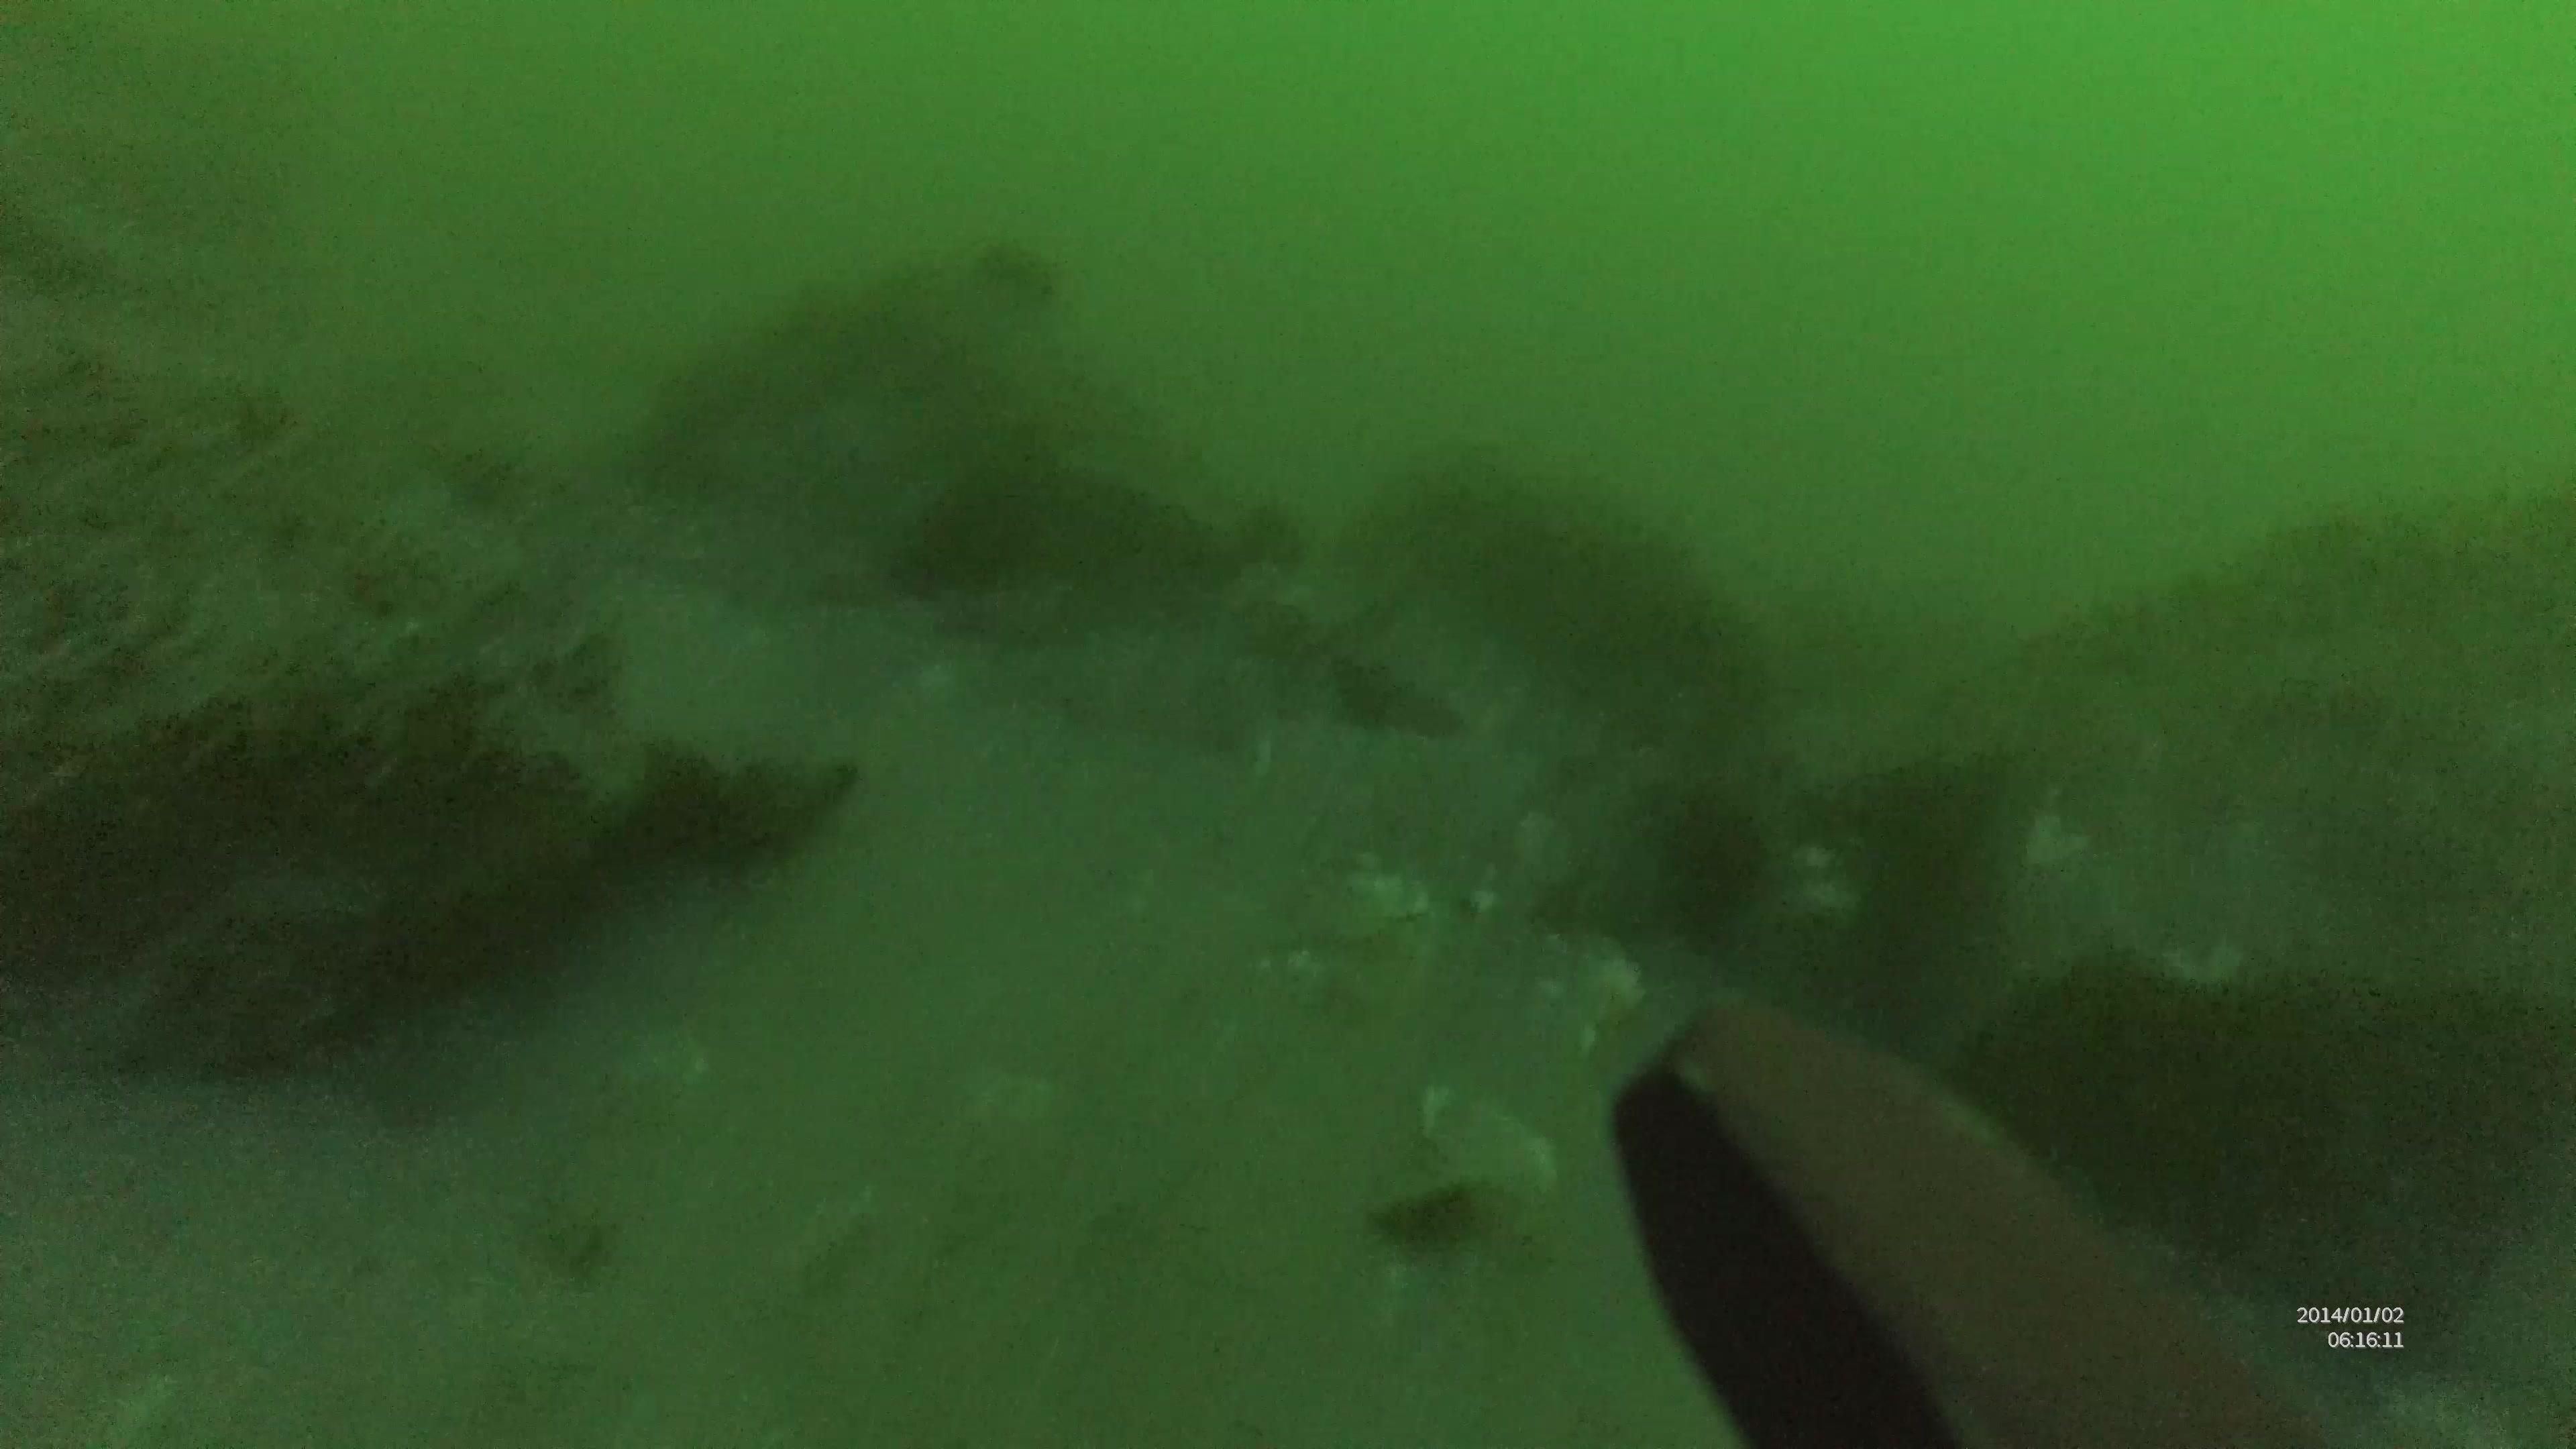echinus: (1645, 787, 1783, 968)
